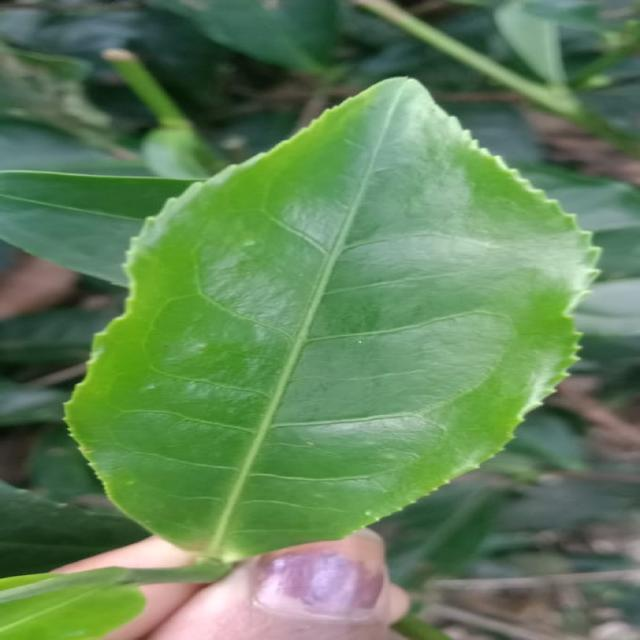Category B 2-4 days: (59, 60, 618, 558)
